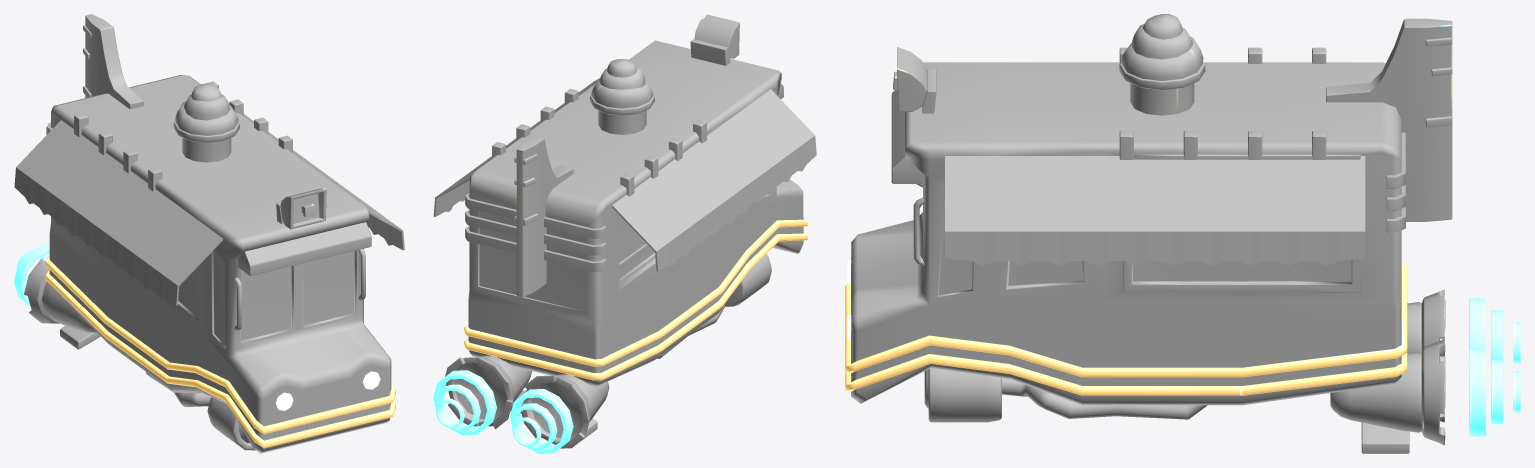
Rendered from Car_5.fbx.
The picture shows the model from 3 angles, left to right: view 1: azimuth 30°, elevation 25°; view 2: azimuth 150°, elevation 25°; view 3: azimuth 270°, elevation 25°; orthographic projection. The views are drawn at different scales.
Parts seen in each view (by area): view 1: Car_5; view 2: Car_5; view 3: Car_5.
Part boxes in pixels (<box>): Car_5: <box>14,14,404,453</box>; Car_5: <box>433,14,816,453</box>; Car_5: <box>845,14,1520,453</box>.
Size of the model in its own units: 678 by 871 by 1334.
